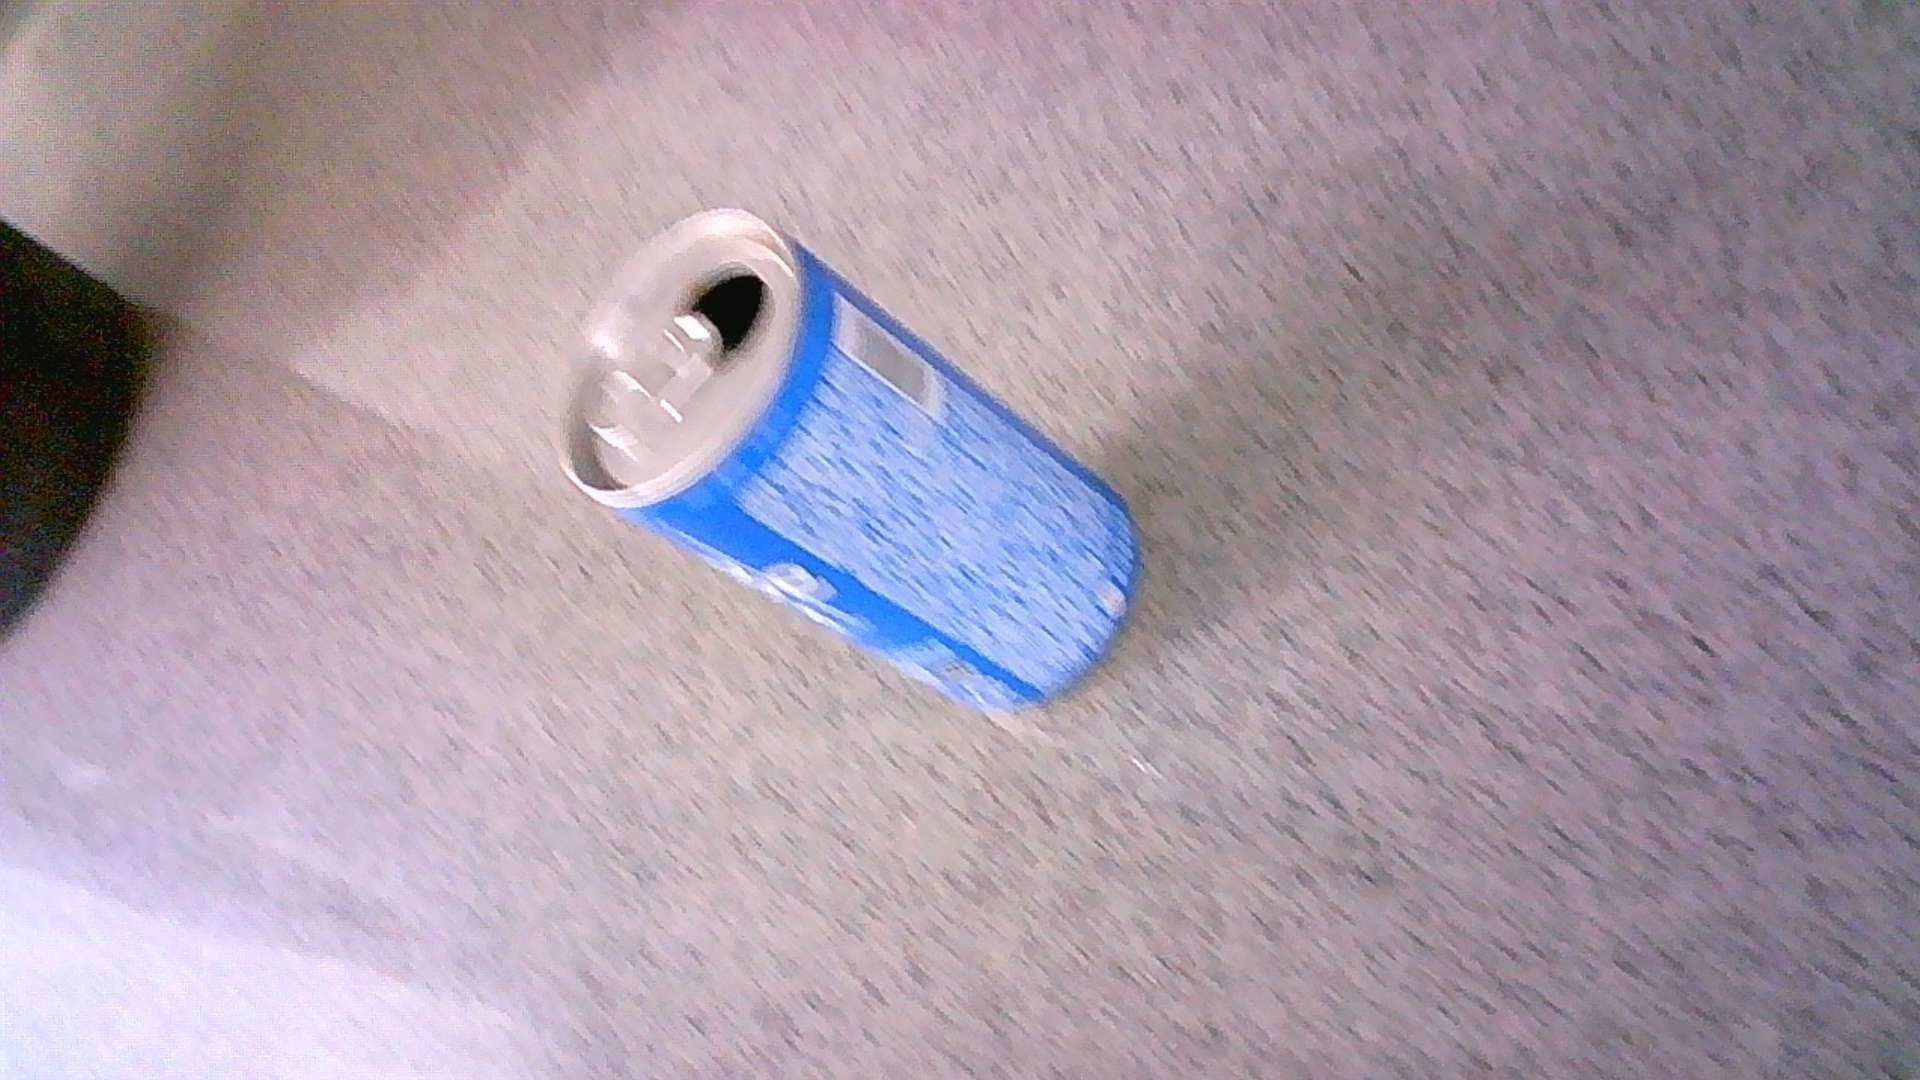letsbe: (557, 204, 1144, 717)
